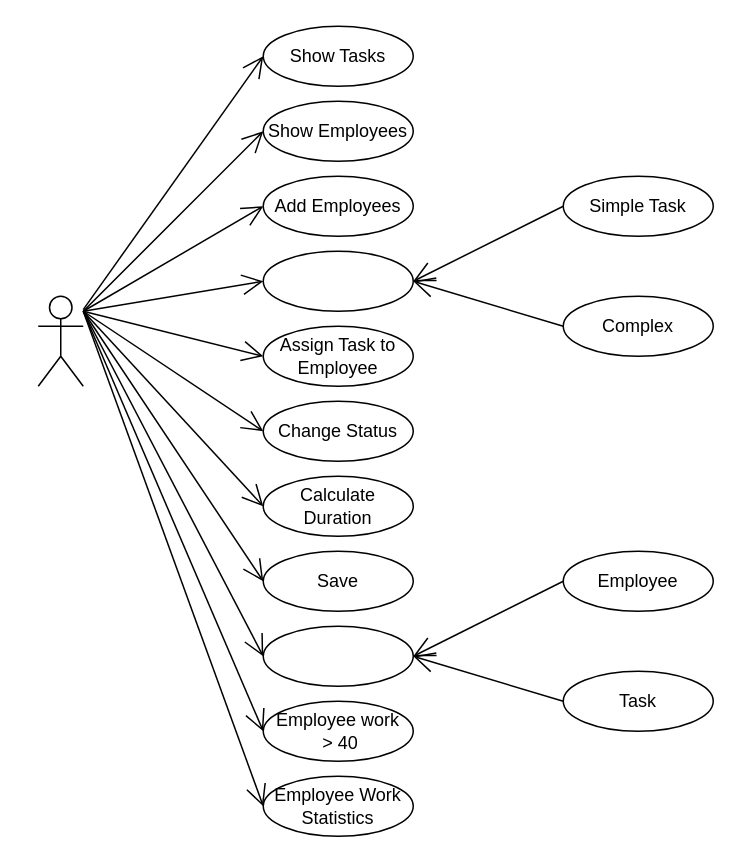
This 740x863 diagram has some shape labels left out. Here are the shapes that lost their labels. From the top down, the box of each, then its label:
(262, 250, 413, 311): Add Task
(37, 295, 83, 386): Manager
(262, 625, 413, 686): delete
